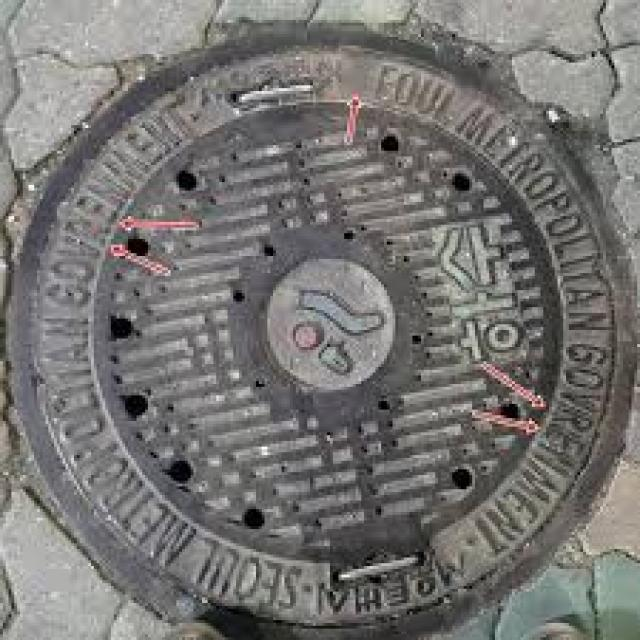Sewer Cover: (1, 1, 640, 640)
